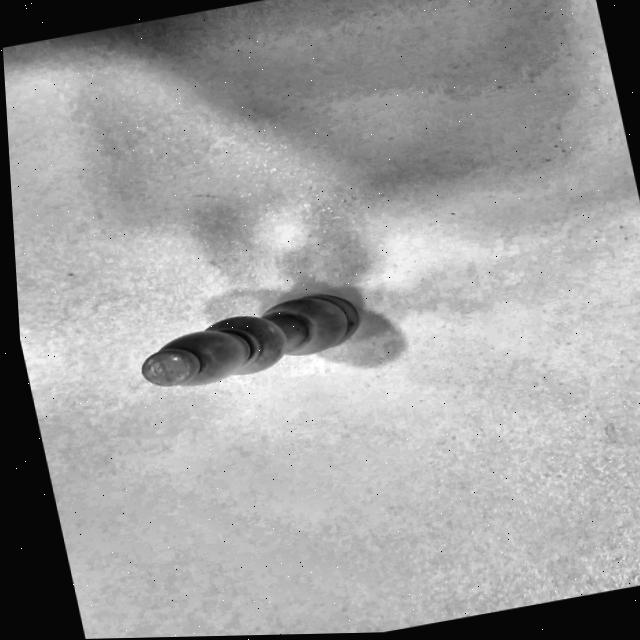white-bishop: (97, 257, 440, 413)
